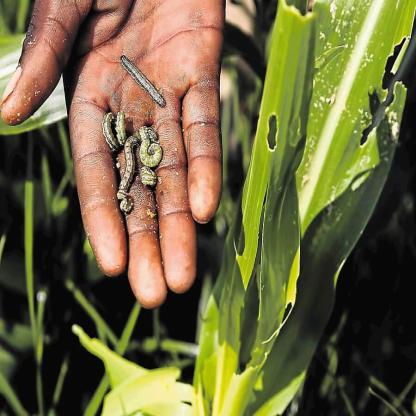armyworm: (117, 53, 172, 107)
